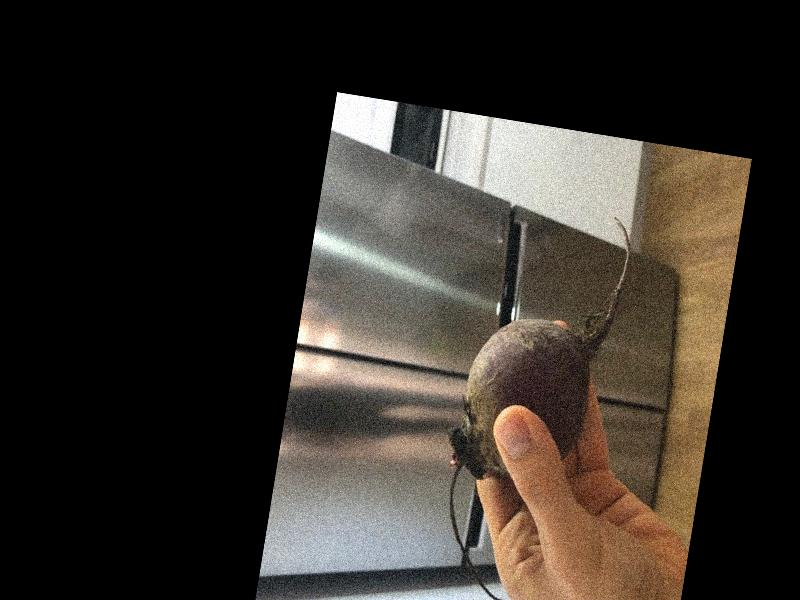Beet: (426, 193, 637, 600)
